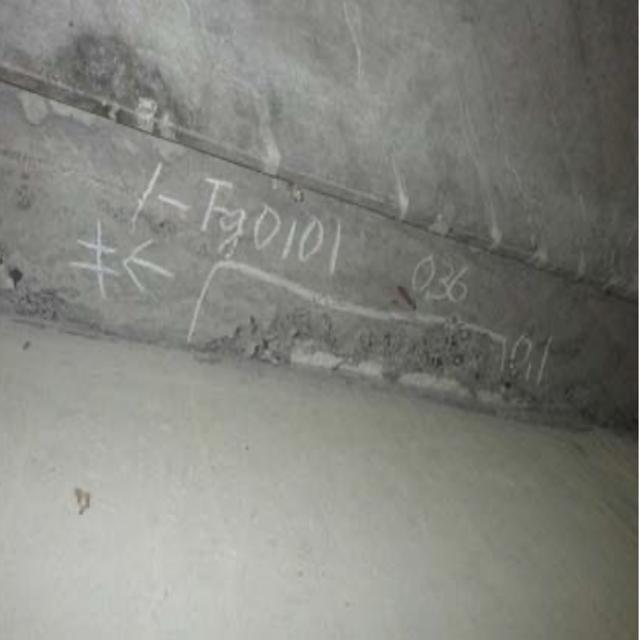spalling: (214, 297, 543, 413)
